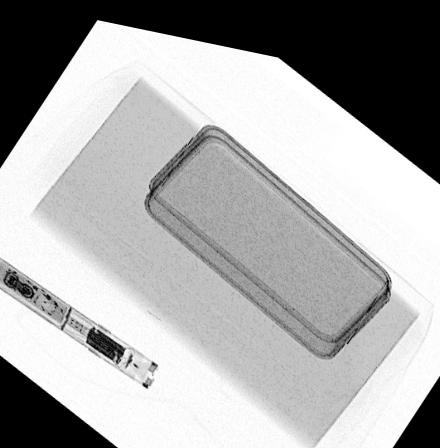Baton: (0, 256, 159, 382)
